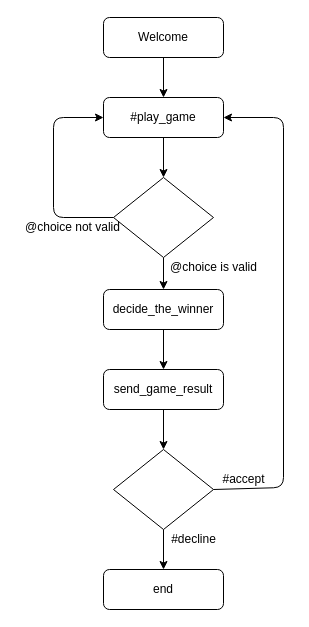
The diagram is 309 pixels wide and 627 high, and some of its shapes have lost their labels. Each missing label, with the box of its shape:
@choice: (112, 176, 214, 258)
play_again: (112, 448, 214, 530)
